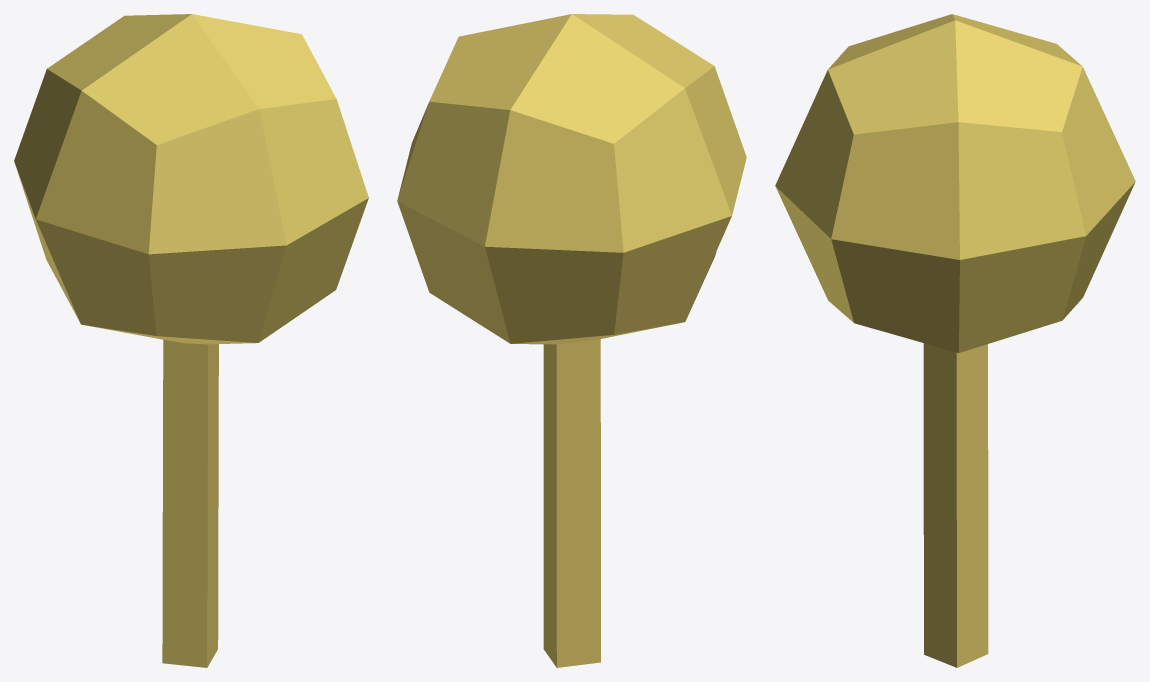
File: Dandelionseed.glb
3 renders of one model, left to right at view 1: azimuth 30°, elevation 25°; view 2: azimuth 150°, elevation 25°; view 3: azimuth 270°, elevation 25°, orthographic.
Parts seen in each view (by area): view 1: Dandelion.001; view 2: Dandelion.001; view 3: Dandelion.001.
Boxes of the visible parts, x1,y1,x2,y2 form: Dandelion.001: [14, 14, 368, 667]; Dandelion.001: [397, 14, 746, 667]; Dandelion.001: [775, 14, 1135, 667].
Size of the model in its own units: 0.362 by 0.703 by 0.362.
